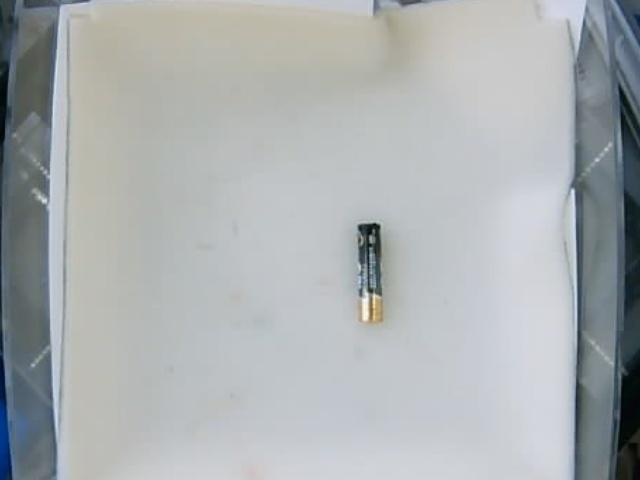Battery: (357, 223, 384, 327)
